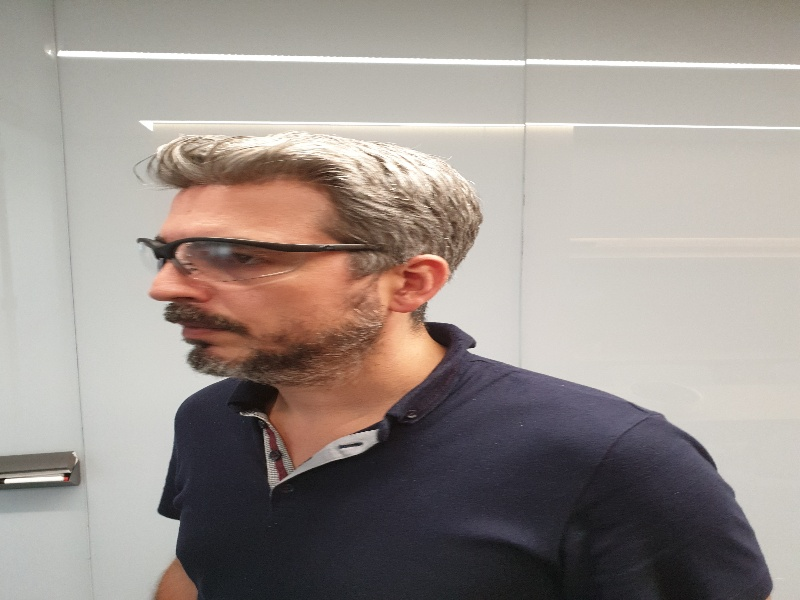Gozluk: (133, 236, 385, 288)
